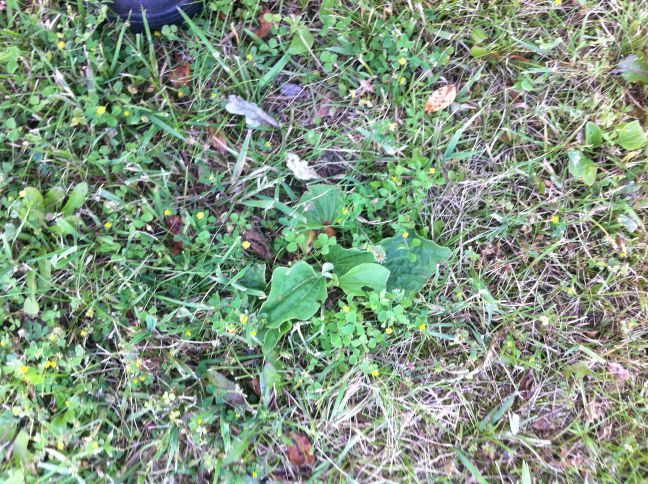weed1: (261, 182, 456, 334)
